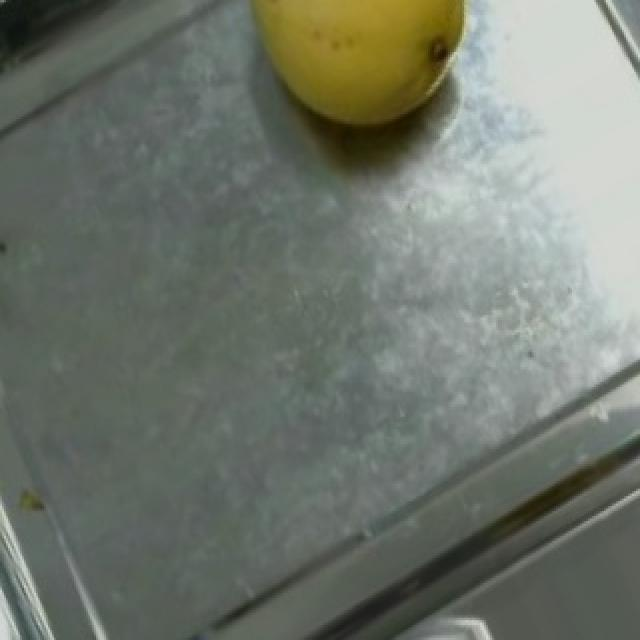fruit: (202, 0, 502, 181)
